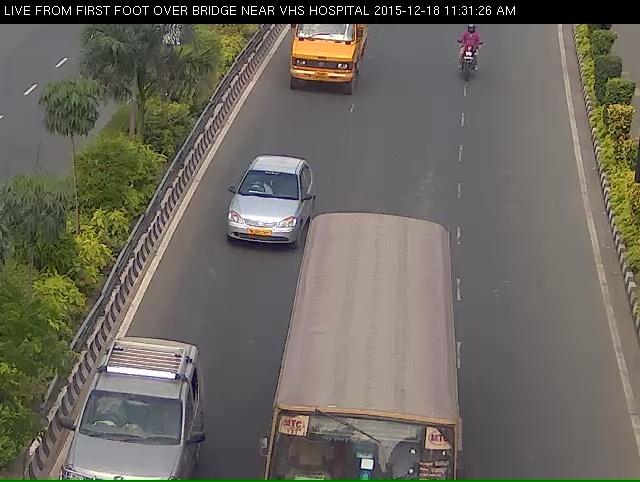Bus: (259, 238, 470, 480), (283, 17, 362, 106)
Car: (68, 375, 184, 482), (210, 175, 301, 272)
Person: (452, 31, 489, 98)
